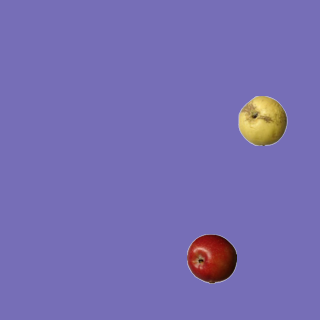Apple Braeburn: (186, 233, 236, 283)
Apple Golden 1: (237, 95, 287, 145)
